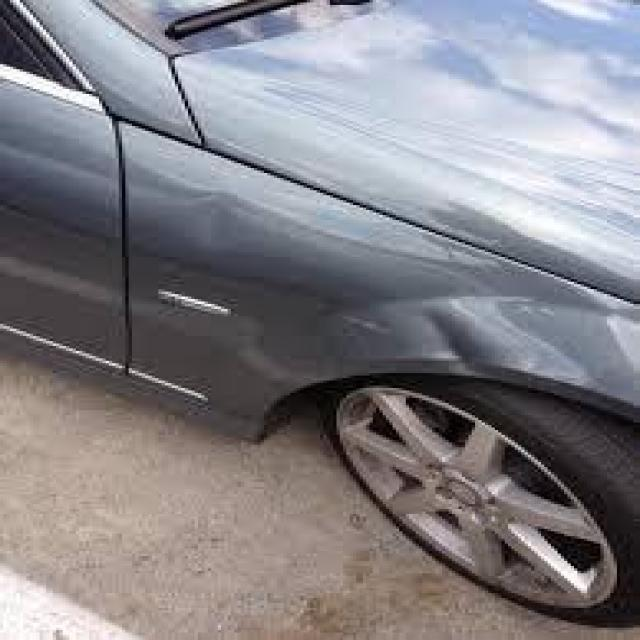damaged: (389, 294, 637, 378)
